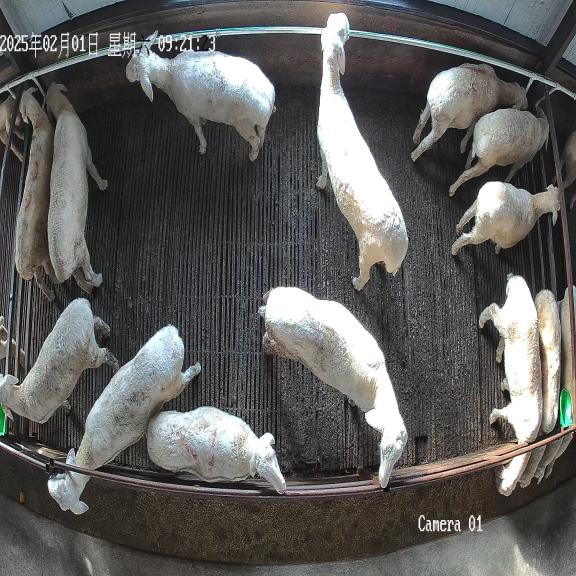drinking: (411, 63, 527, 161), (449, 106, 549, 196)
eating: (479, 275, 542, 496), (519, 290, 561, 487)
stand: (259, 287, 408, 487), (47, 325, 201, 514), (317, 12, 408, 291), (126, 32, 275, 161), (0, 298, 118, 423), (46, 84, 107, 292), (147, 406, 286, 494), (16, 90, 55, 300), (452, 182, 560, 255)
